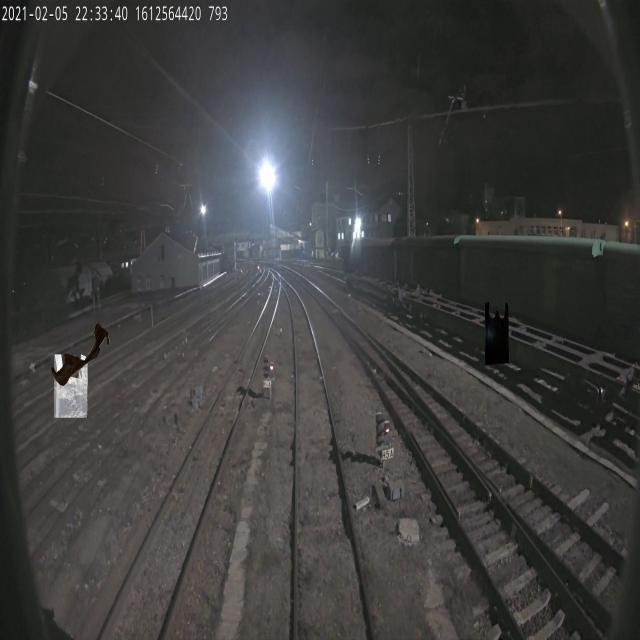floating object: (51, 322, 110, 387)
plastic bag: (54, 354, 88, 418), (484, 302, 510, 366)
